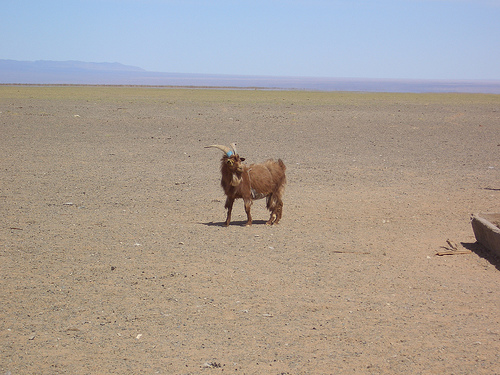goat: (205, 141, 288, 227)
